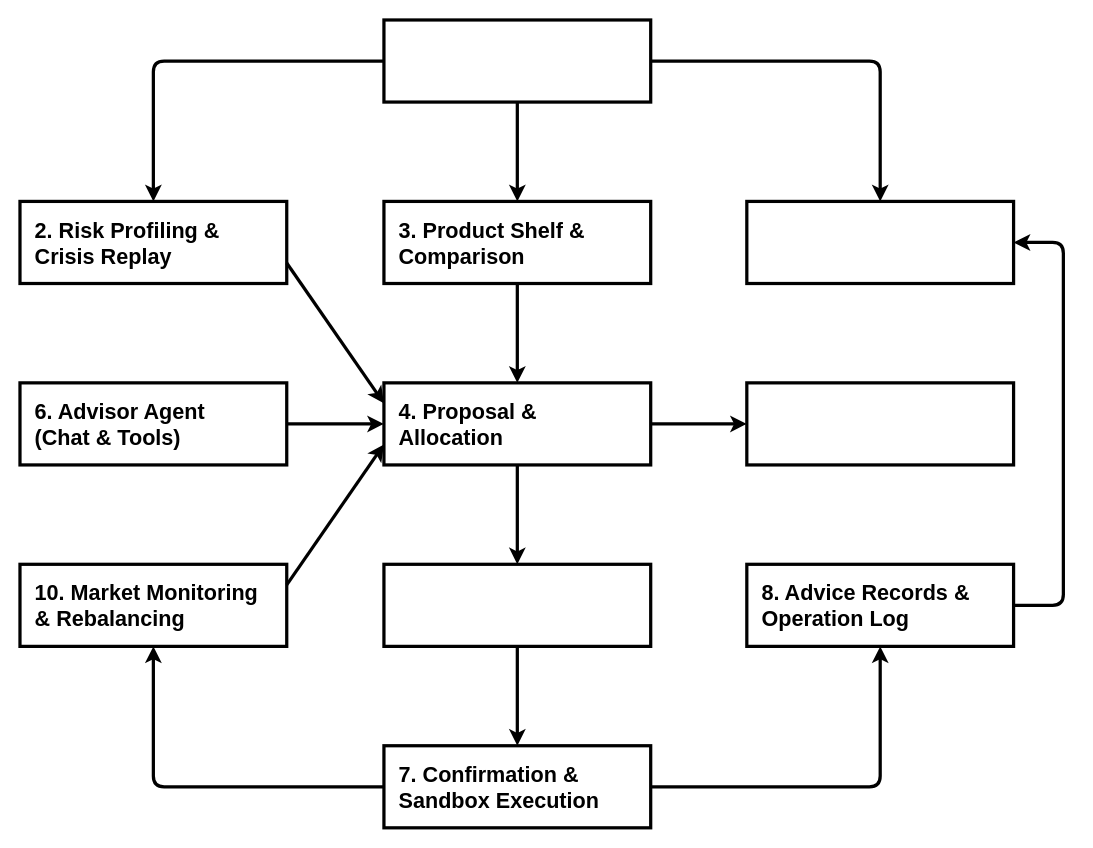
Image size: 1093x848. Some labels were removed from this diagram. The box of each missing label's shape, as (x1, y1, x2, y2) in pixels:
1. Access, Roles & Sessions: (382, 18, 652, 103)
11. AI Control Room: (745, 199, 1015, 285)
5. Compliance Gate (R-01 to R-09): (382, 562, 652, 647)
9. Goal Planning & Briefing: (745, 381, 1015, 466)
